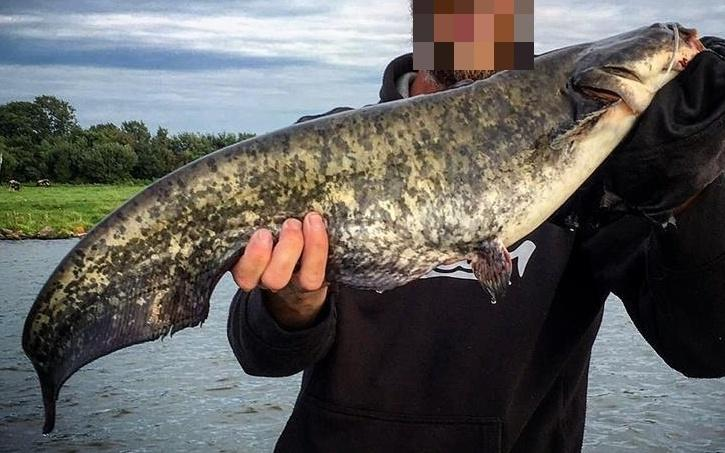Catfish: (19, 21, 708, 438)
